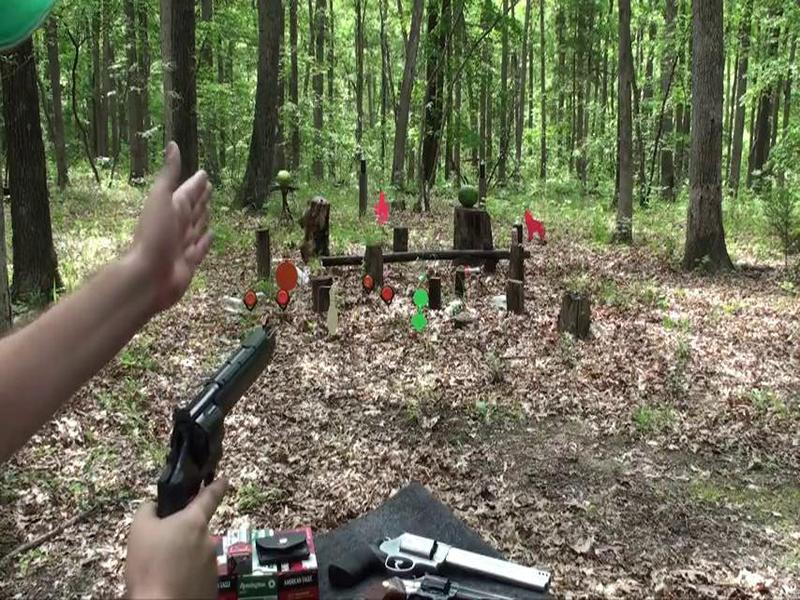Revolver: (146, 327, 284, 538)
